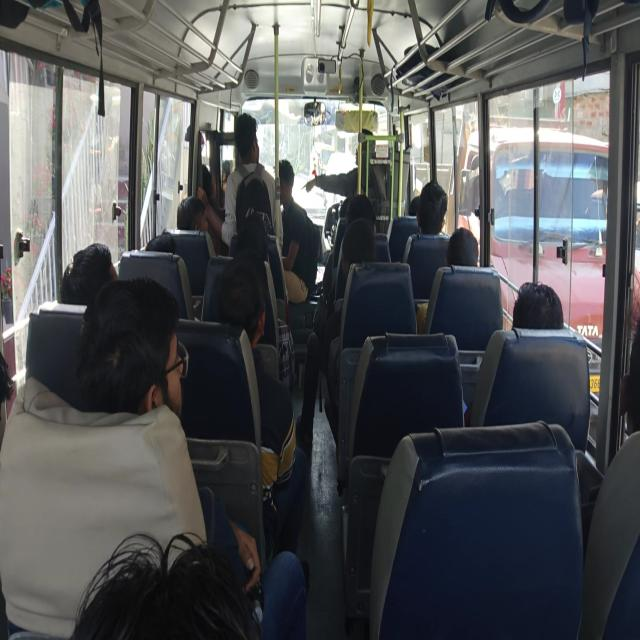person: (71, 520, 244, 640), (92, 280, 177, 423), (610, 313, 640, 472), (60, 246, 135, 304), (513, 270, 562, 354), (216, 270, 268, 344), (446, 217, 490, 268), (418, 180, 448, 242), (142, 223, 182, 266), (231, 116, 261, 172), (177, 198, 214, 240), (344, 187, 379, 230), (343, 246, 380, 286), (231, 240, 266, 282), (274, 157, 306, 197), (246, 196, 268, 233), (411, 193, 431, 222)
